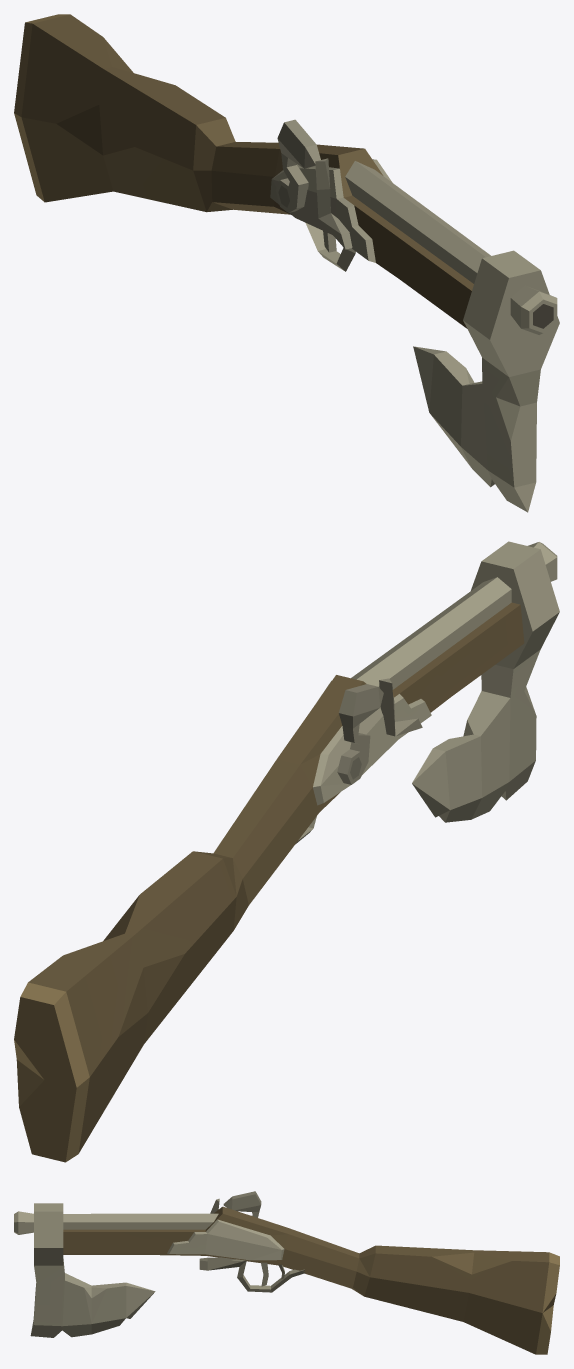
The model's file is AxeGun_1.fbx.
3 renders of one model, top to bottom at view 1: azimuth 30°, elevation 25°; view 2: azimuth 150°, elevation 25°; view 3: azimuth 270°, elevation 25°, orthographic. The views are drawn at different scales.
Visible parts, largest first — view 1: AxeGun_1; view 2: AxeGun_1; view 3: AxeGun_1.
Part boxes in pixels (x1=…): AxeGun_1: x1=14, y1=14, x2=559, y2=512; AxeGun_1: x1=14, y1=541, x2=559, y2=1162; AxeGun_1: x1=14, y1=1191, x2=559, y2=1354.
Bounding box in the file's own units: 8.23 × 28.59 × 94.77.
